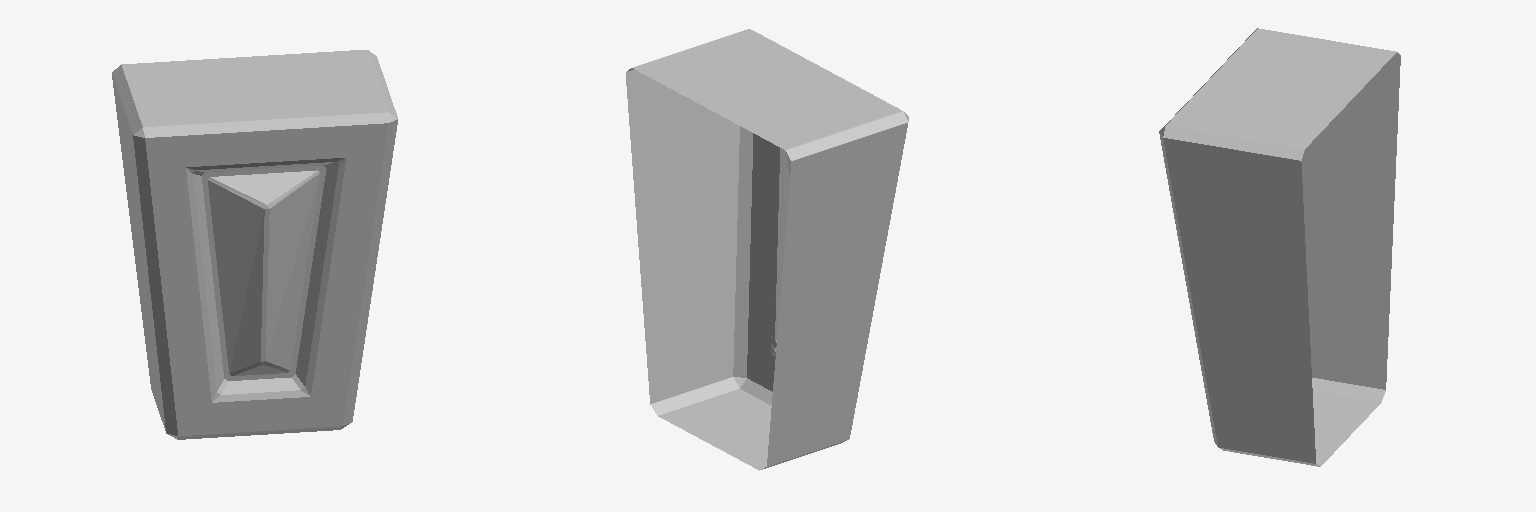
The picture shows the model from 3 angles: view 1: azimuth 30°, elevation 25°; view 2: azimuth 150°, elevation 25°; view 3: azimuth 270°, elevation 25°; orthographic projection.
Parts seen in each view (by area): view 1: Bistro_Research_Exterior_Paris_Building_01_paris_buildi_6746a3f; view 2: Bistro_Research_Exterior_Paris_Building_01_paris_buildi_6746a3f; view 3: Bistro_Research_Exterior_Paris_Building_01_paris_buildi_6746a3f.
Boxes of the visible parts, box(x1,y1,x2,y2) form: Bistro_Research_Exterior_Paris_Building_01_paris_buildi_6746a3f: box(112, 50, 397, 439); Bistro_Research_Exterior_Paris_Building_01_paris_buildi_6746a3f: box(626, 29, 908, 470); Bistro_Research_Exterior_Paris_Building_01_paris_buildi_6746a3f: box(1159, 28, 1400, 466).
Size of the model in its own units: 0.5199 by 0.6301 by 0.4132.